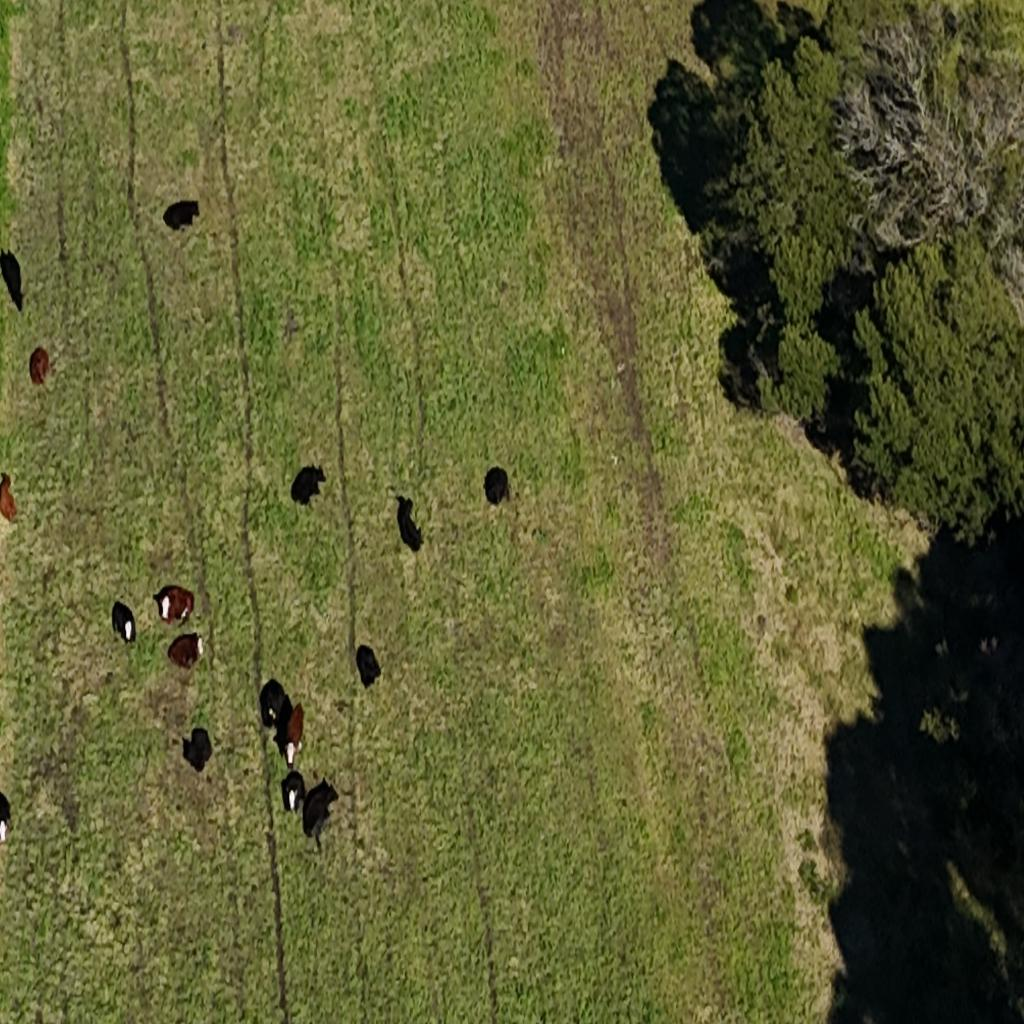cow: (302, 781, 338, 837), (0, 247, 25, 314), (290, 462, 326, 508), (260, 678, 290, 730), (158, 585, 194, 626), (181, 727, 213, 773), (284, 701, 306, 767), (166, 631, 204, 669), (397, 502, 423, 553), (163, 198, 200, 232), (483, 464, 511, 508), (27, 346, 54, 390), (280, 769, 305, 815), (111, 600, 136, 646), (356, 644, 380, 690), (0, 472, 18, 519)
